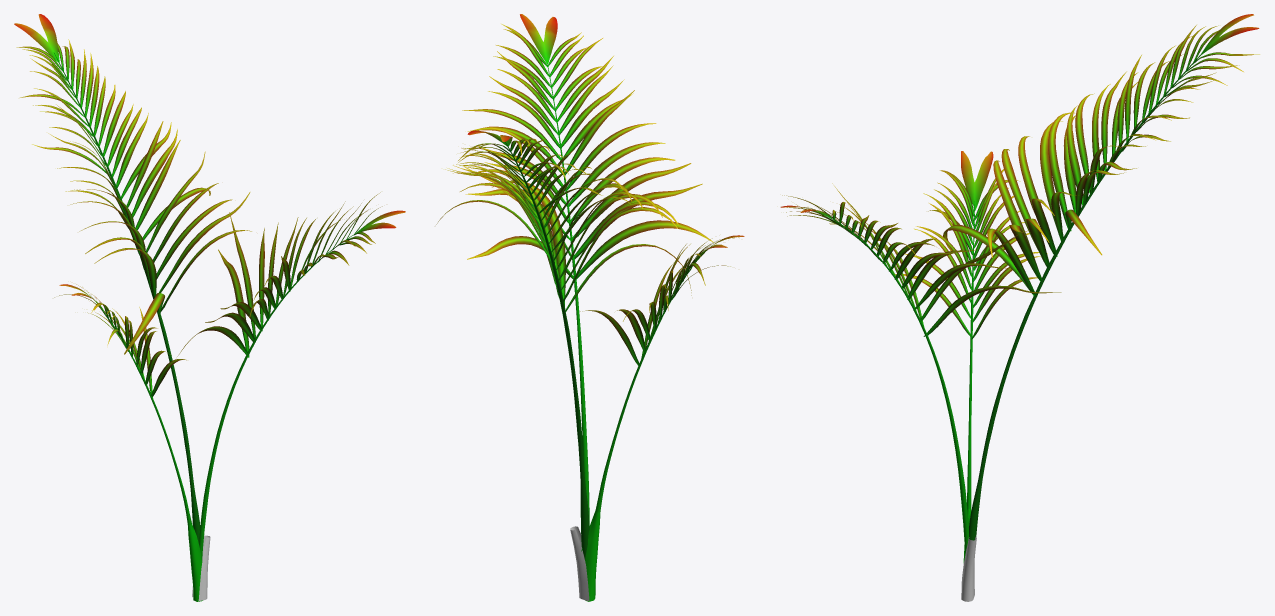
File: Alexandra Palm_LOD0_Var2_ukgkcilia.fbx
3 renders of one model, left to right at view 1: azimuth 30°, elevation 25°; view 2: azimuth 150°, elevation 25°; view 3: azimuth 270°, elevation 25°, orthographic. The views are drawn at different scales.
Parts seen in each view (by area): view 1: _n3sn_Var2_LOD0; view 2: _n3sn_Var2_LOD0; view 3: _n3sn_Var2_LOD0.
Part boxes in pixels (x1,y1,x2,y2): _n3sn_Var2_LOD0: [14, 14, 405, 601]; _n3sn_Var2_LOD0: [436, 14, 744, 601]; _n3sn_Var2_LOD0: [780, 14, 1259, 601].
Size of the model in its own units: 41.69 by 75.17 by 59.49.
